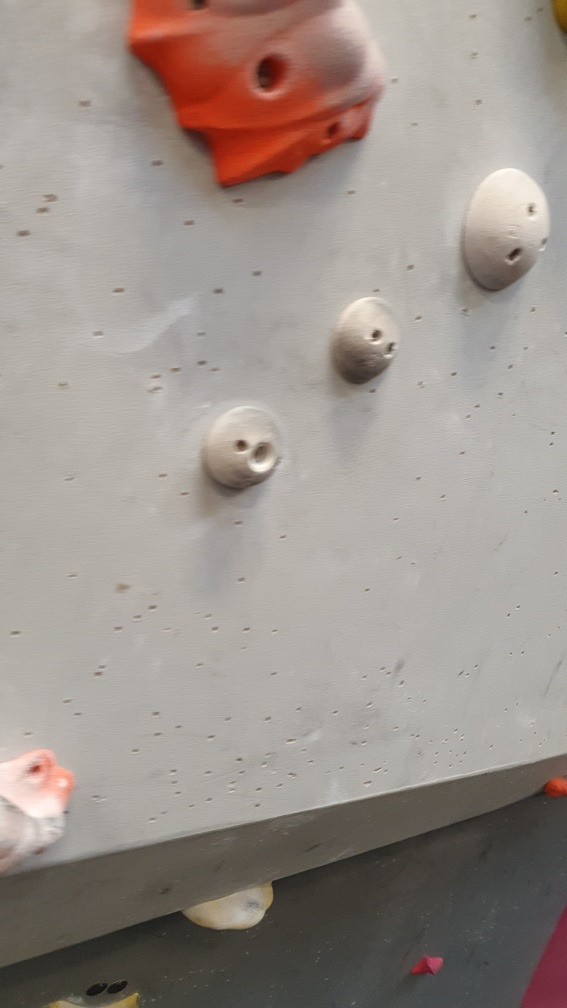Hand Start: (84, 976, 111, 1001), (104, 975, 129, 1001)
Jug: (121, 1, 388, 198)
Sloper: (453, 163, 560, 301), (199, 403, 287, 493), (327, 293, 408, 387)
